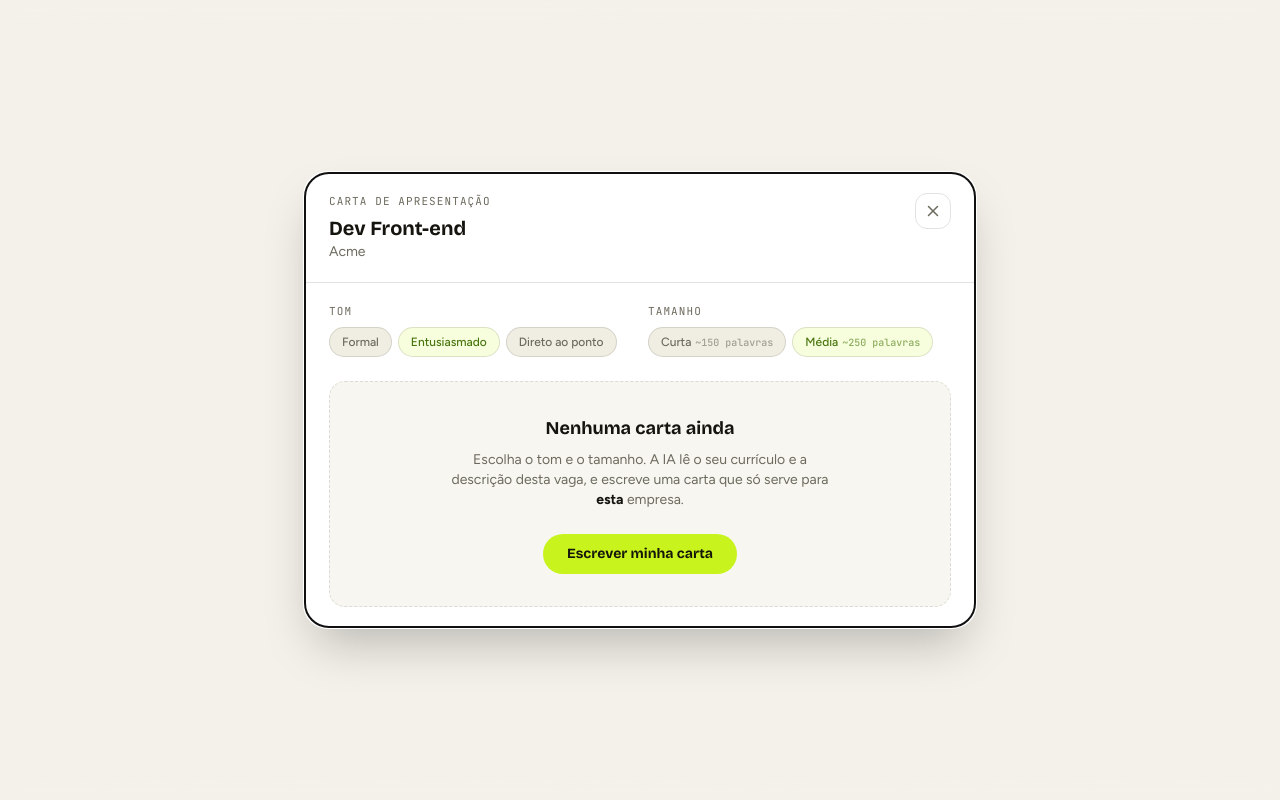
Test case: CoverLetterPanel › escreve a carta quando o usuário pede, e mostra as palavras-chave da vaga
Click the button "Escrever minha carta" at (640, 554), box [543,534,737,574]
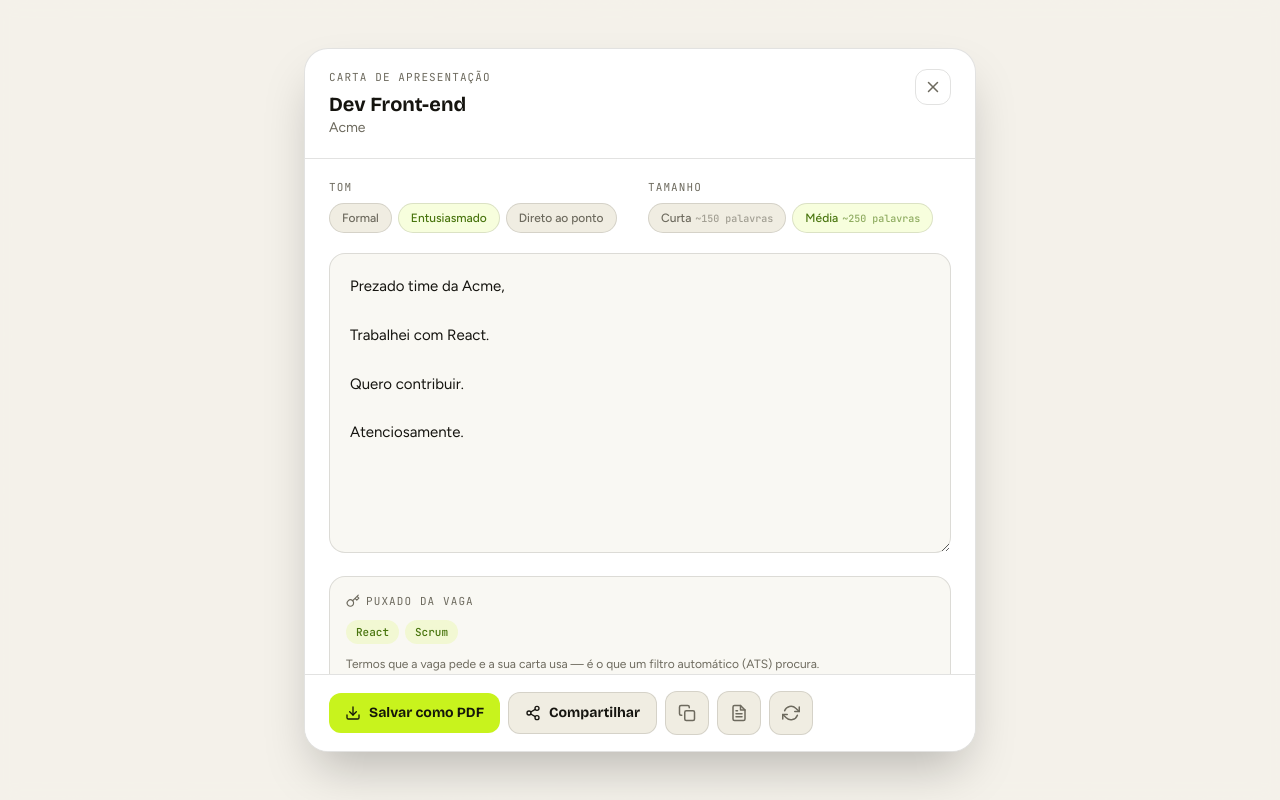
Expected: the text "Scrum" is shown, [405,620,458,644]
